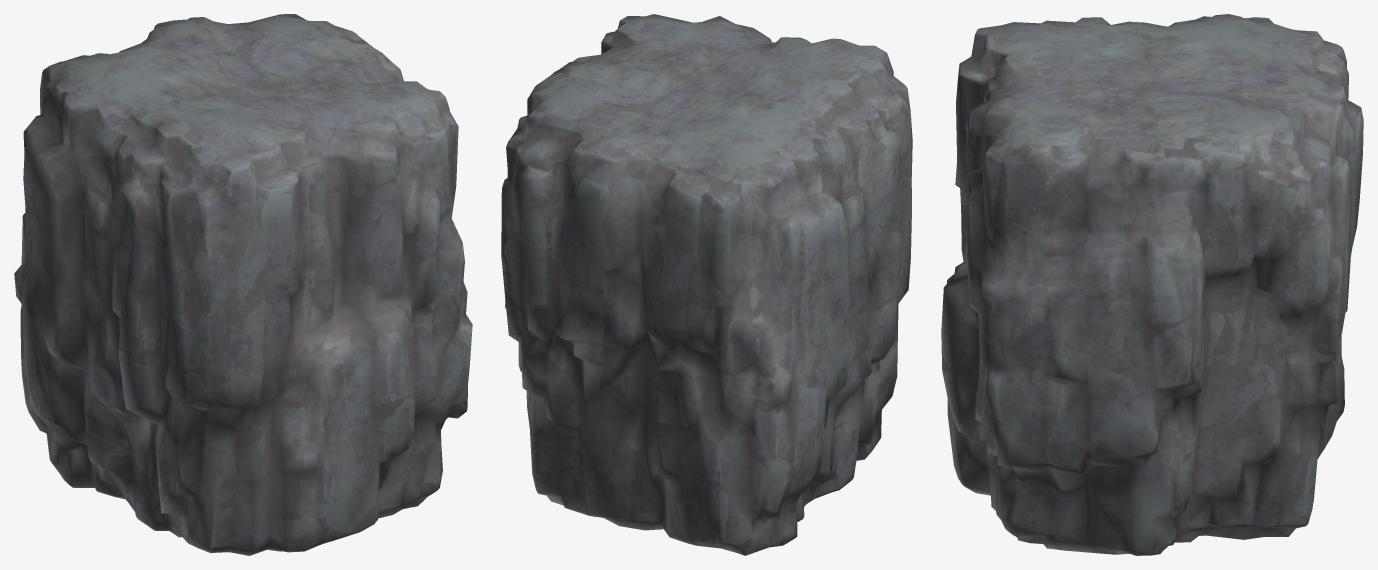
The model's file is stone-8.fbx.
3 views of the same model, side by side, from view 1: azimuth 30°, elevation 25°; view 2: azimuth 150°, elevation 25°; view 3: azimuth 270°, elevation 25° (orthographic). The views are drawn at different scales.
Visible parts, largest first — view 1: Area_Ly_Stone_CSPY_Full_L_01_Lod0; view 2: Area_Ly_Stone_CSPY_Full_L_01_Lod0; view 3: Area_Ly_Stone_CSPY_Full_L_01_Lod0.
Part boxes in pixels (<box>): Area_Ly_Stone_CSPY_Full_L_01_Lod0: <box>14,14,472,555</box>; Area_Ly_Stone_CSPY_Full_L_01_Lod0: <box>501,14,912,555</box>; Area_Ly_Stone_CSPY_Full_L_01_Lod0: <box>941,14,1363,555</box>.
Bounding box in the file's own units: 4003 × 4652 × 4152.
Materials: 1 (1 with a texture image).
